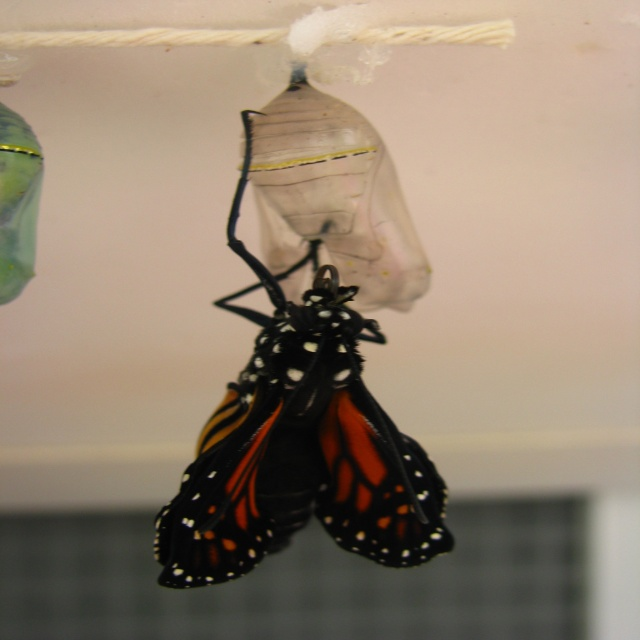Butterfly: (157, 110, 465, 565)
